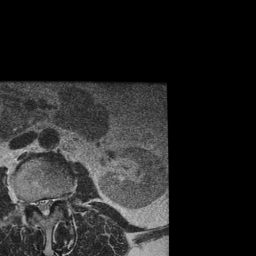CCS_normal: (42, 191, 48, 225)
LFS_stenosis: (55, 186, 62, 210)
LLS_stenosis: (48, 189, 55, 210)
RFS_severe_stenosis: (27, 190, 34, 215)
RLS_stenosis: (34, 192, 42, 217)
